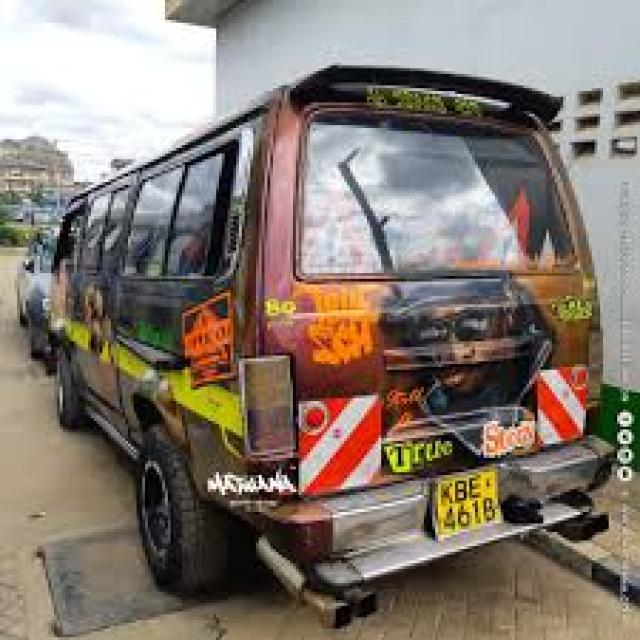matatu: (12, 38, 629, 640)
